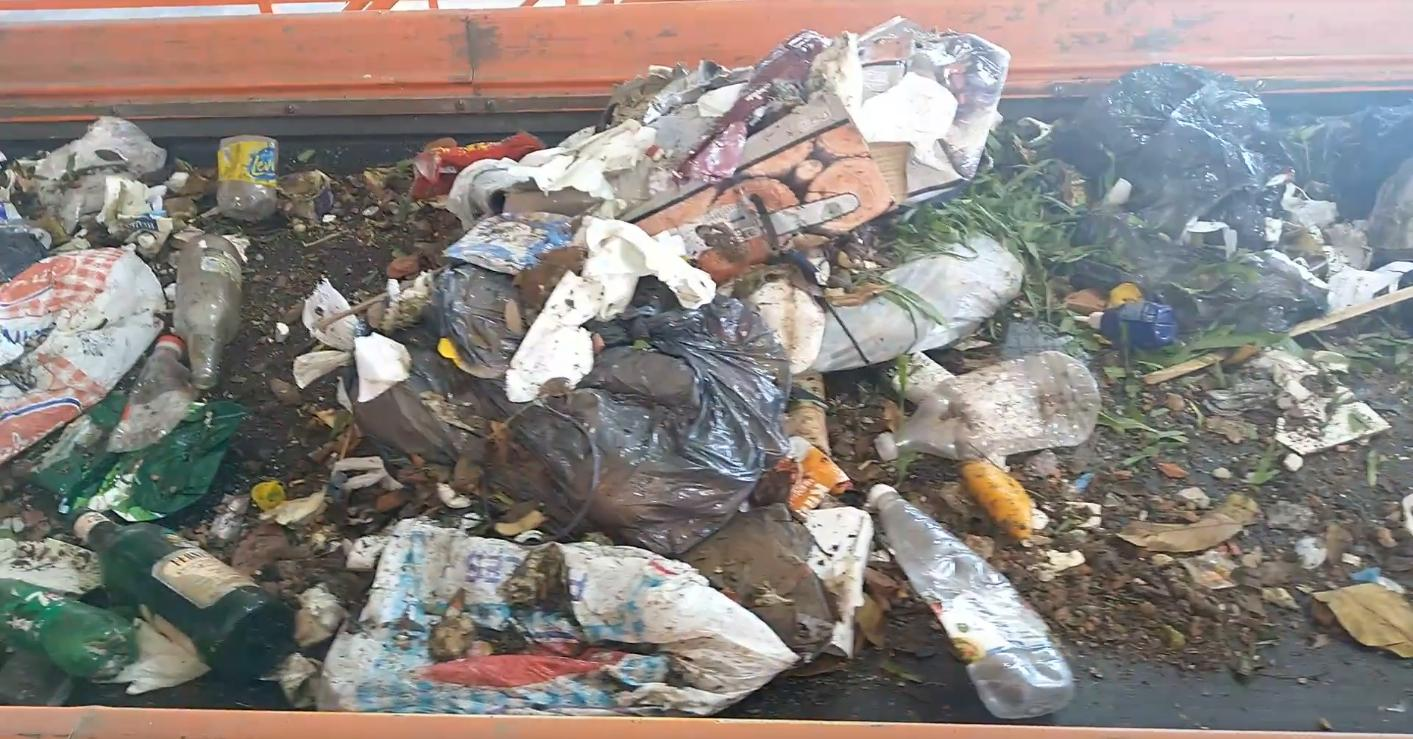bottle: (0, 4, 976, 726), (8, 334, 976, 478), (47, 493, 317, 686), (5, 332, 198, 453), (0, 578, 139, 684), (168, 231, 250, 387), (216, 81, 281, 224)
